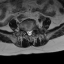CCS_normal: (28, 28, 30, 37)
LFS_normal: (32, 26, 34, 32)
LLS_normal: (30, 27, 32, 36)
RFS_severe_stenosis: (24, 27, 26, 34)
RLS_normal: (26, 28, 28, 36)
